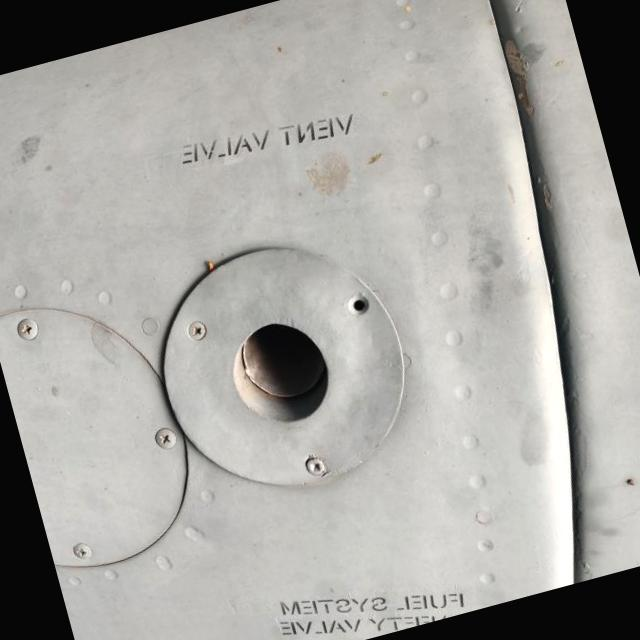Missing Fastener: (347, 294, 372, 317)
